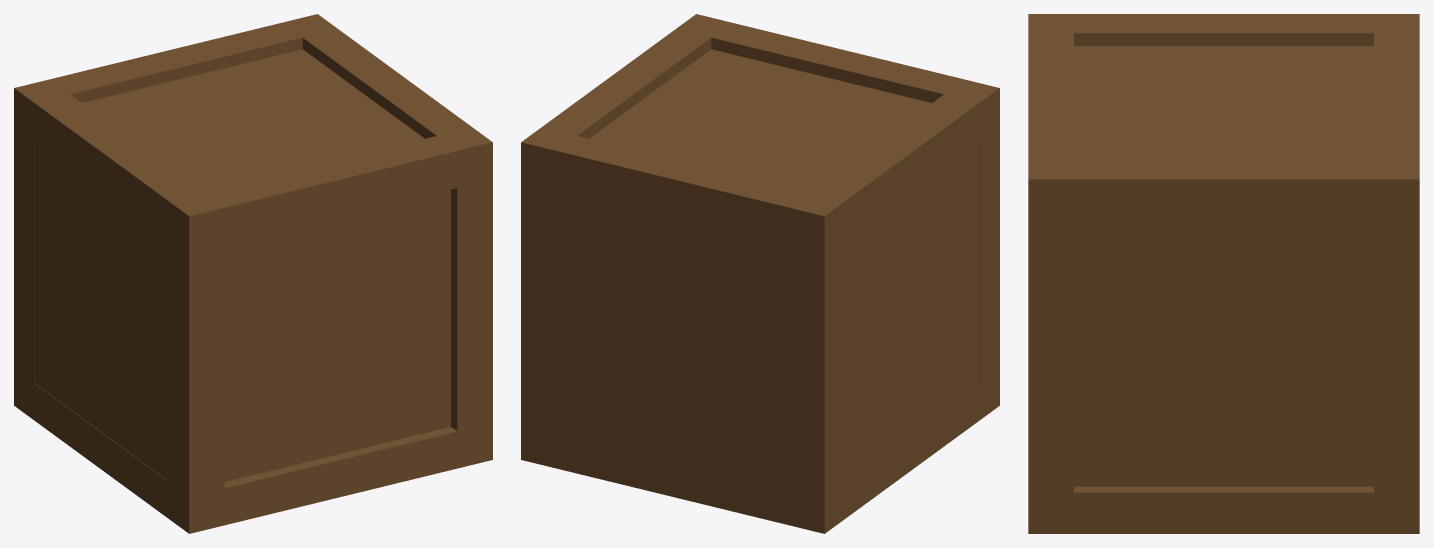
Rendered from prop.crate.small.obj.
3 views of the same model, side by side, from view 1: azimuth 30°, elevation 25°; view 2: azimuth 150°, elevation 25°; view 3: azimuth 270°, elevation 25° (orthographic). The views are drawn at different scales.
Parts seen in each view (by area): view 1: prop.crate.small; view 2: prop.crate.small; view 3: prop.crate.small.
Boxes of the visible parts, <box> form: prop.crate.small: <box>14,14,492,533</box>; prop.crate.small: <box>521,14,999,533</box>; prop.crate.small: <box>1028,14,1419,533</box>.
Size of the model in its own units: 0.6 by 0.6 by 0.6.
